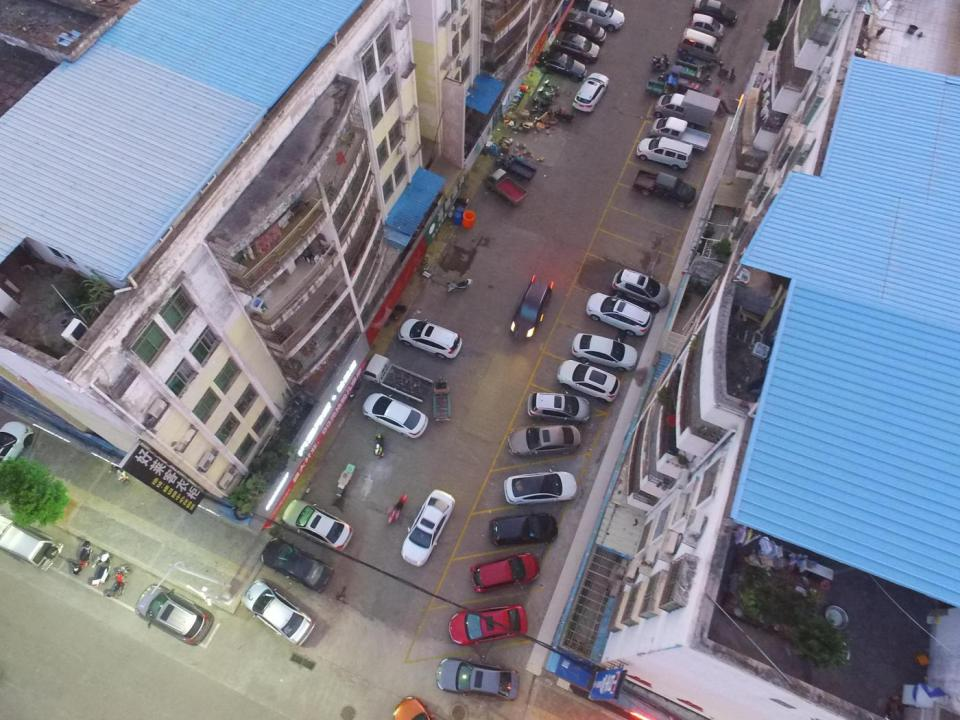car: (241, 578, 316, 646), (134, 582, 212, 645), (401, 488, 456, 568), (259, 537, 334, 594), (281, 498, 354, 552), (437, 658, 520, 702), (448, 604, 528, 647), (361, 391, 428, 439), (469, 551, 541, 593), (586, 292, 652, 337), (556, 359, 621, 404), (510, 274, 554, 340), (503, 468, 577, 505), (397, 318, 462, 360), (570, 332, 638, 372), (489, 510, 558, 548), (507, 422, 581, 456), (611, 268, 670, 308), (526, 390, 592, 423), (0, 420, 34, 471), (534, 50, 588, 82), (549, 30, 600, 63), (558, 12, 607, 44), (572, 73, 609, 113), (687, 13, 725, 42), (691, 0, 730, 23)
truck: (362, 352, 434, 402), (654, 88, 720, 130), (632, 168, 696, 208), (648, 116, 711, 153), (566, 0, 625, 32), (484, 168, 529, 206)
van: (0, 513, 64, 572), (635, 136, 693, 171), (678, 27, 722, 64)
